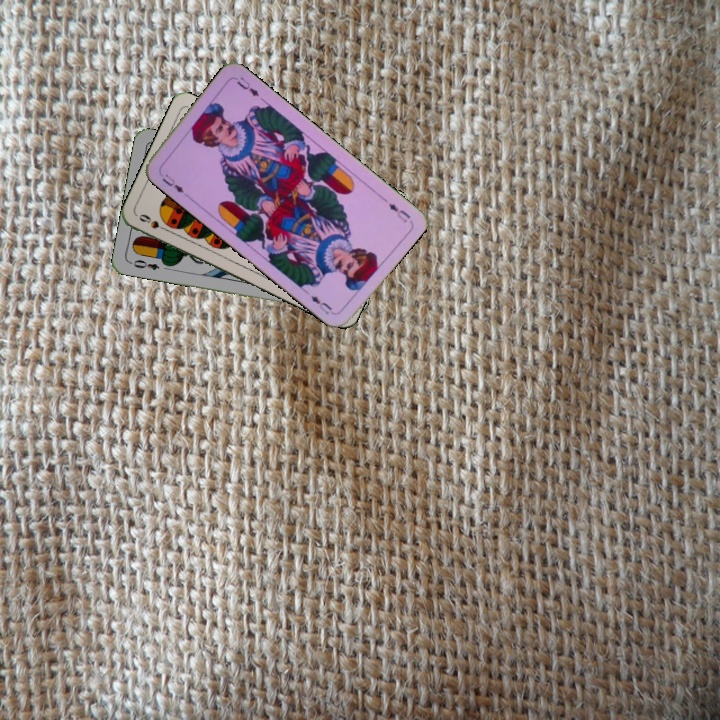EO: (126, 256, 162, 273)
EU: (158, 170, 190, 198), (384, 199, 413, 225)
S9: (135, 210, 173, 235)
